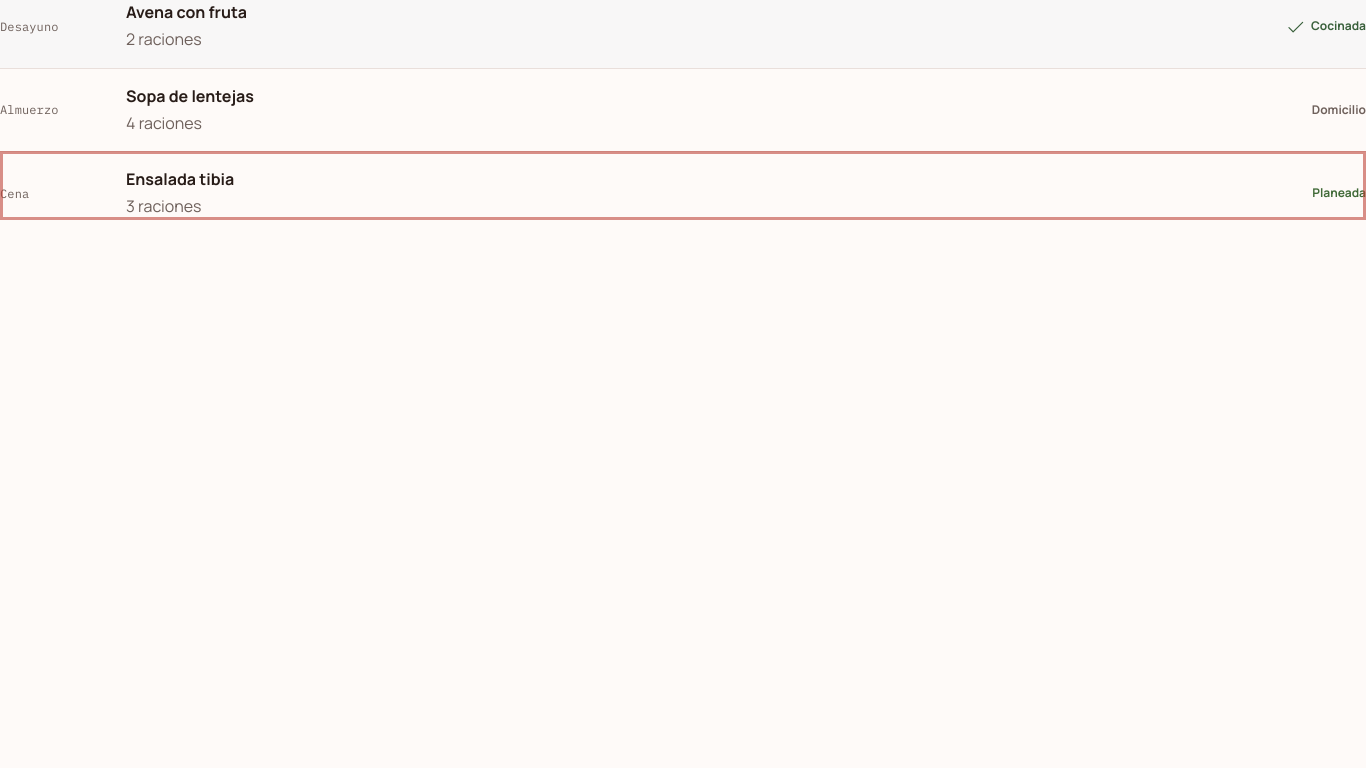
Test: home meal list › opens detail with Enter and returns focus after Escape and the close button
Press Enter
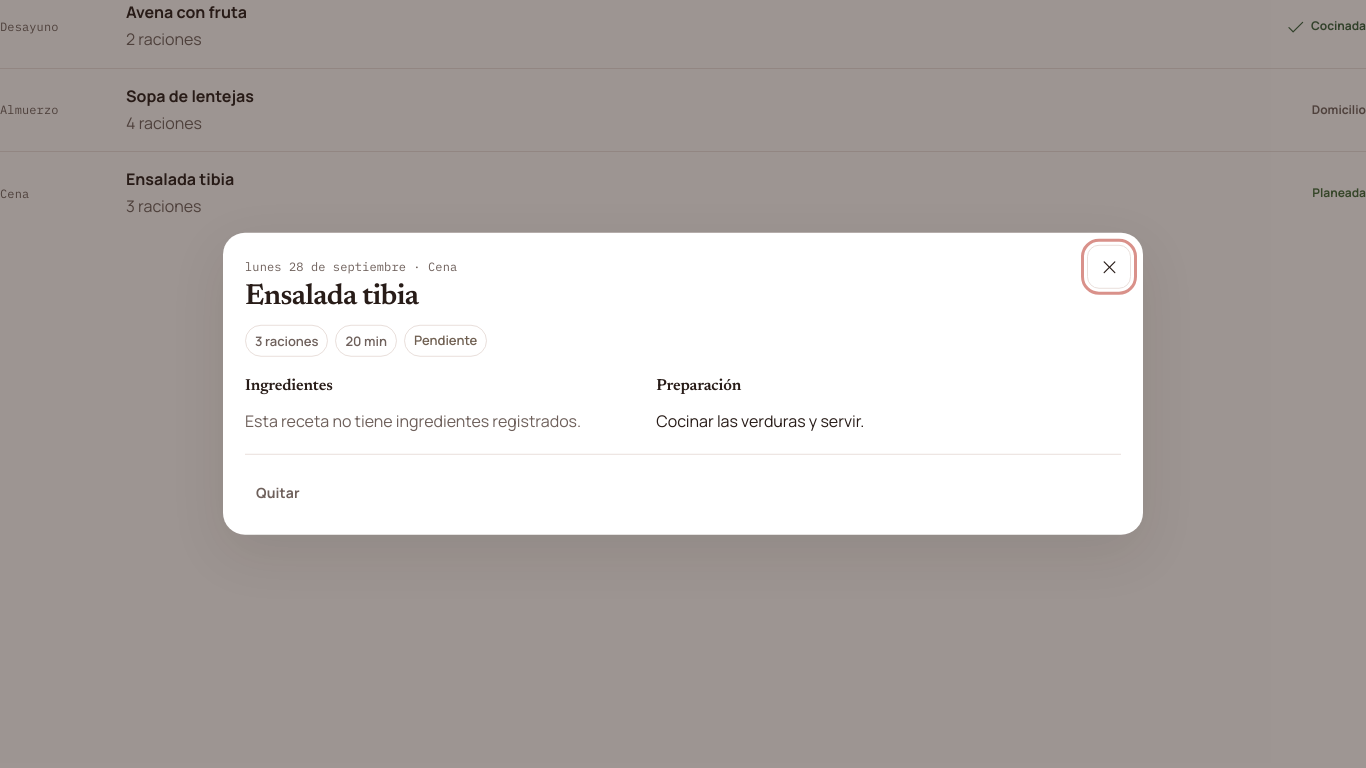
Result: the dialog named "Detalle de la comida" is shown at [223,233,1143,535]
Result: the heading "Ensalada tibia" is shown at [245,283,418,312]
Press Escape
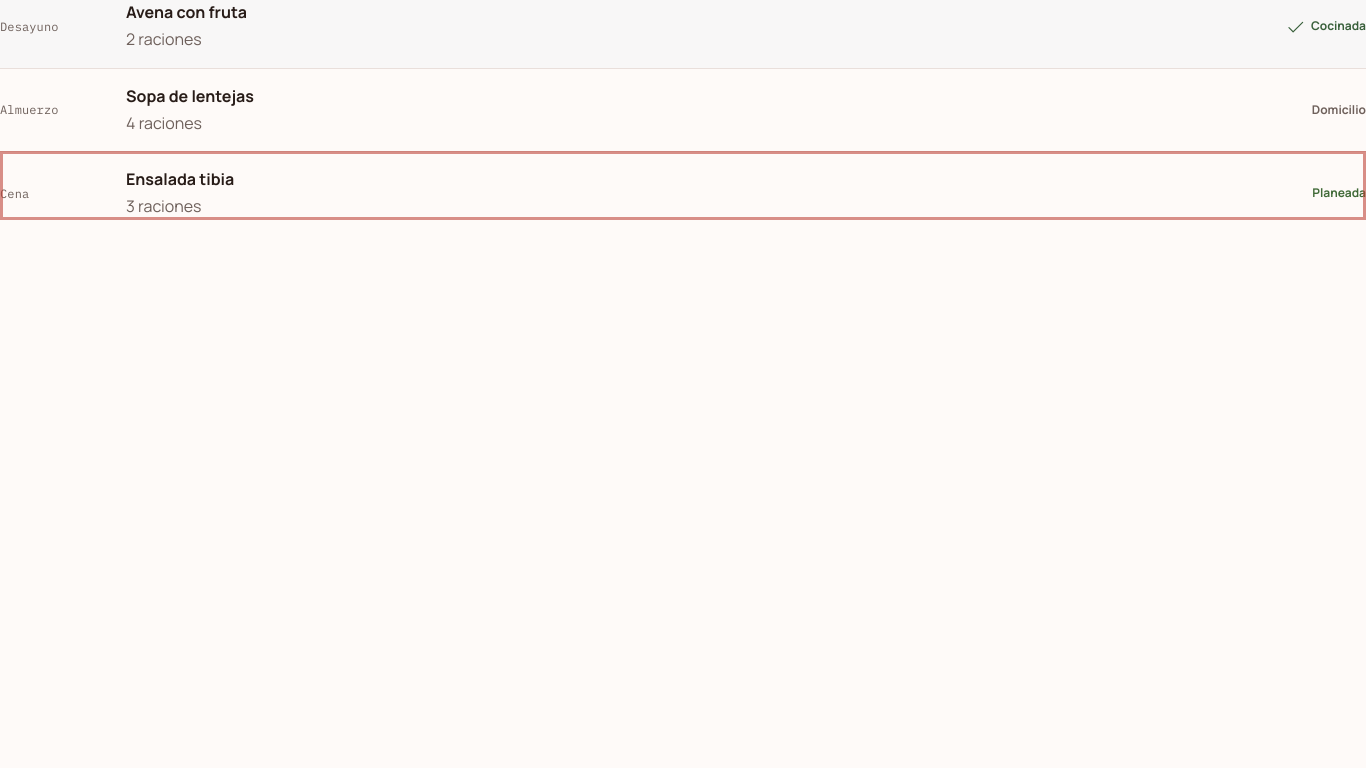
Result: the dialog is gone
Press Enter
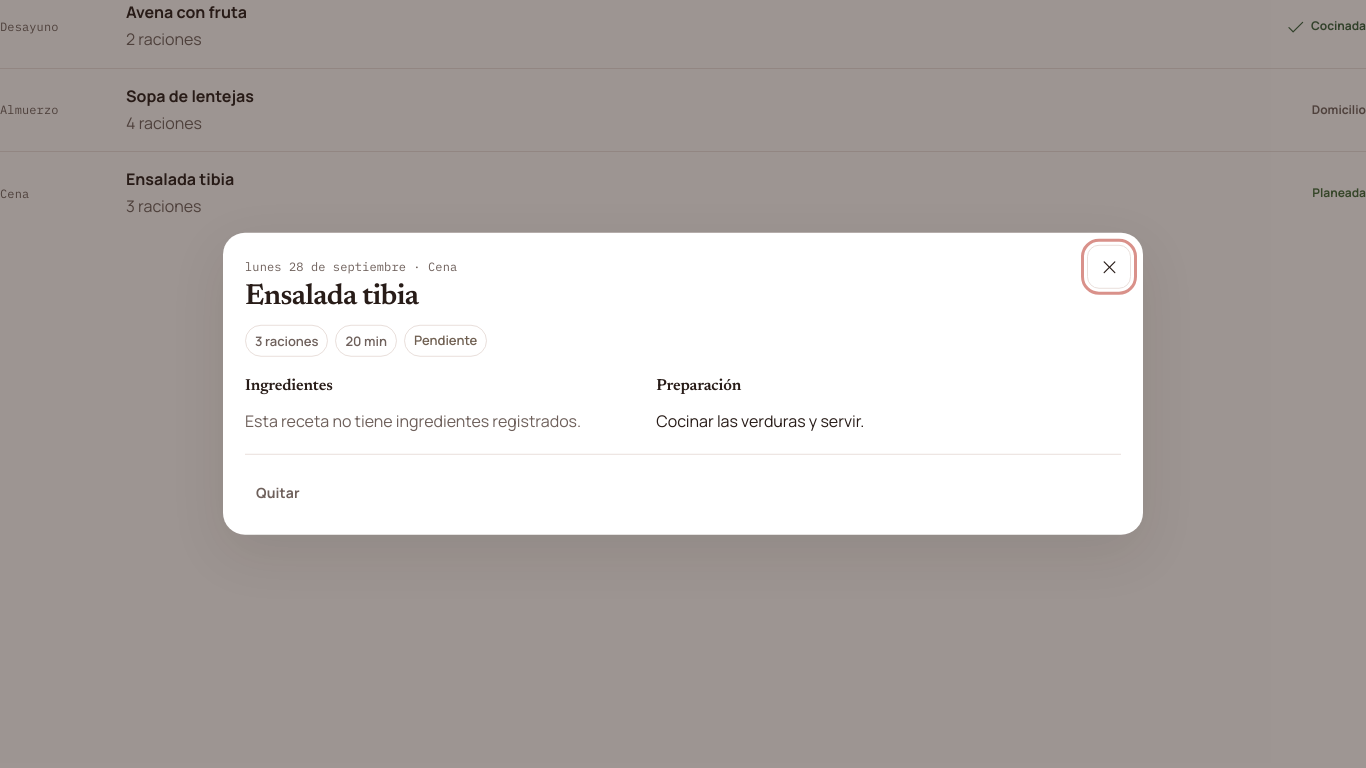
Result: the dialog is shown at [223,233,1143,535]
Click the button named "Cerrar" at (1109, 267), box [1087,245,1131,289]
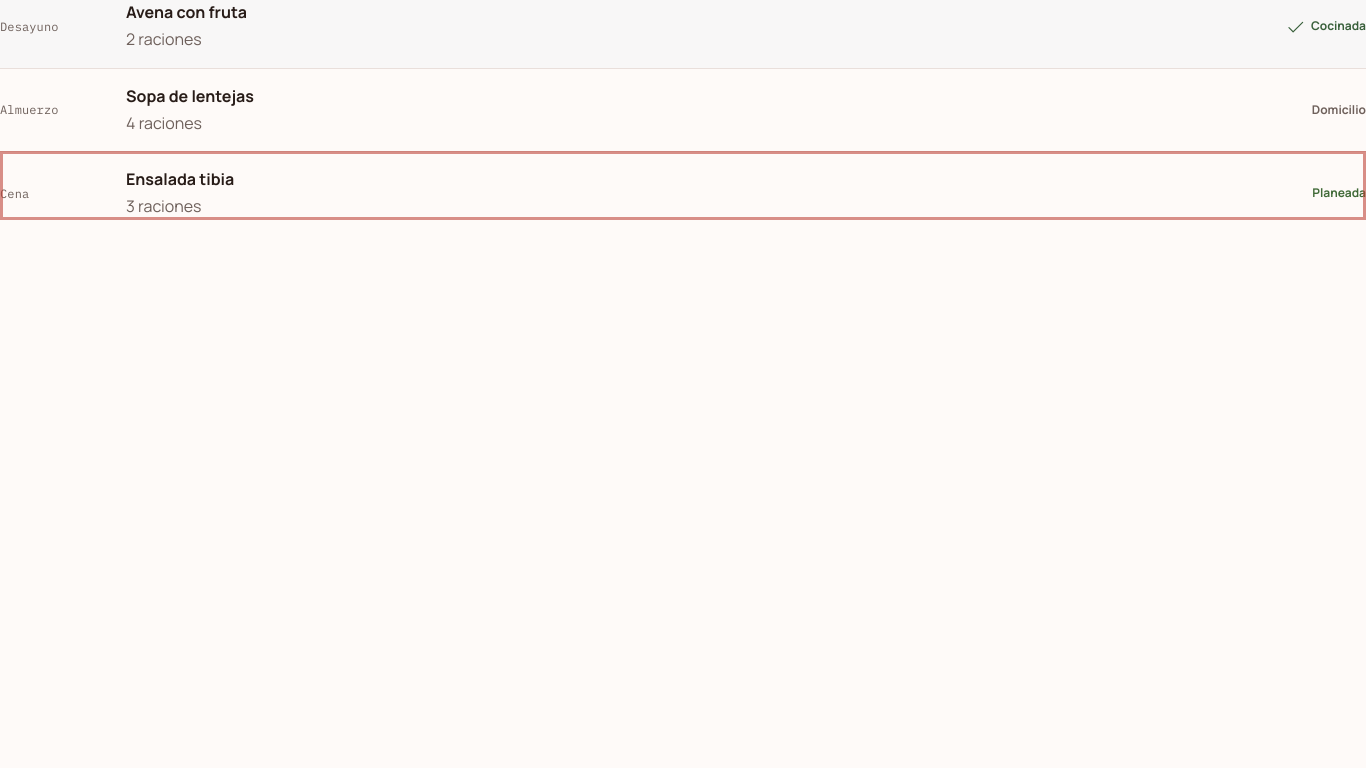
Result: the dialog is gone
